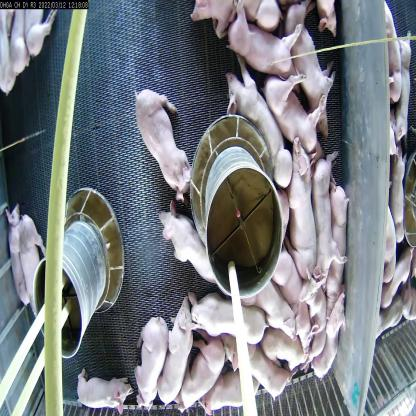Pig: (220, 65, 290, 190), (133, 85, 193, 195), (263, 62, 326, 160), (161, 196, 221, 284), (224, 11, 300, 78), (186, 290, 265, 349), (158, 303, 201, 409), (283, 124, 314, 270), (312, 302, 358, 393), (230, 339, 294, 401), (306, 146, 333, 288), (178, 335, 223, 408), (0, 192, 28, 308), (133, 319, 171, 400), (73, 365, 133, 415), (249, 277, 294, 339), (203, 368, 260, 415), (15, 219, 45, 306), (327, 174, 348, 285)
